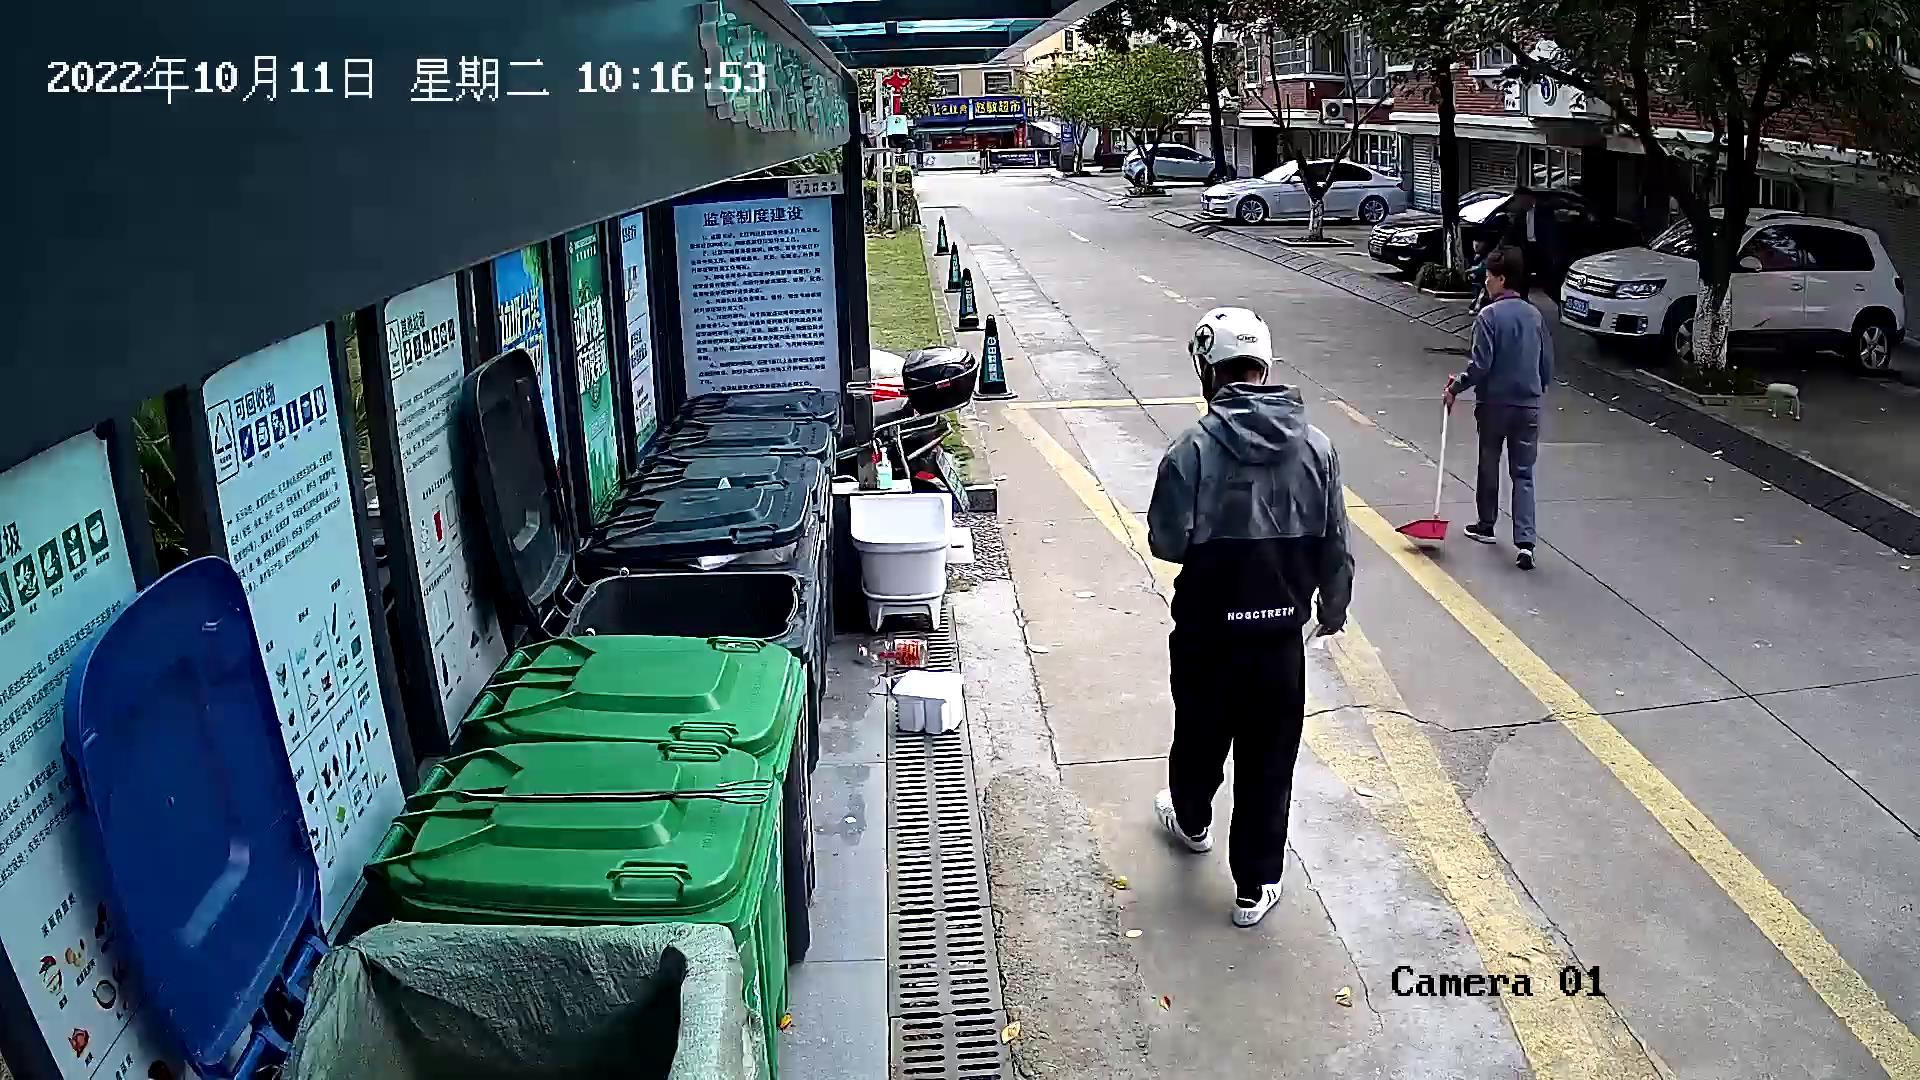paomozhipin: (890, 662, 968, 741)
person: (1129, 298, 1371, 934), (1437, 236, 1564, 579)
suliaozhipin: (848, 629, 935, 672)
